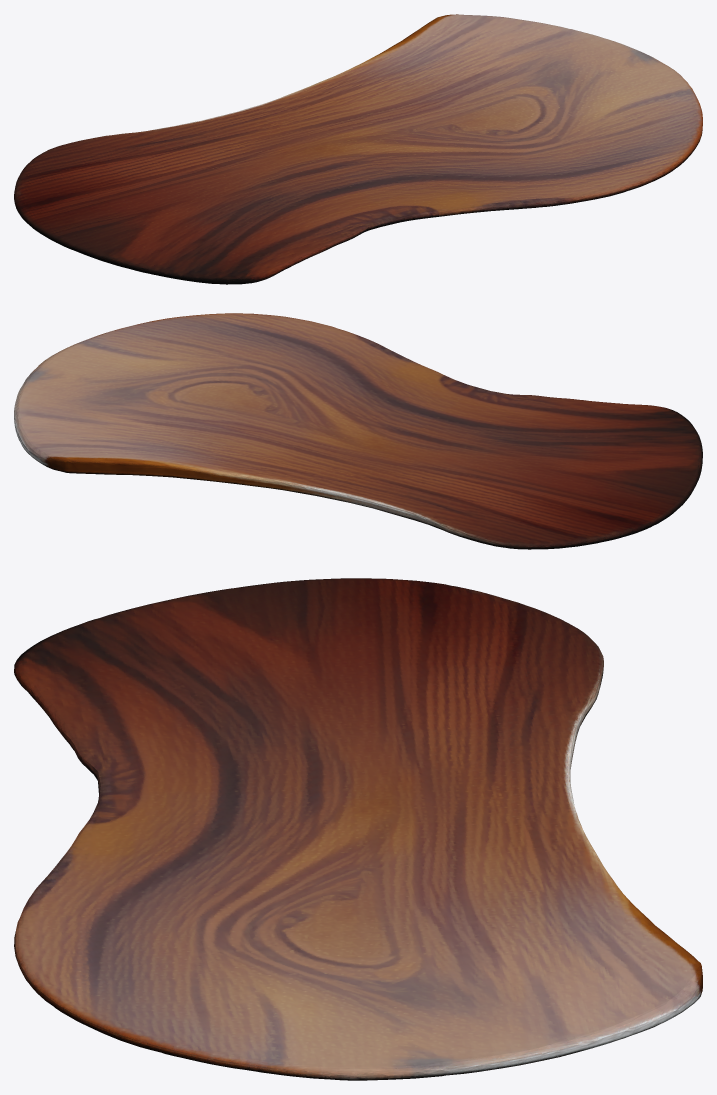
Rendered from wooden-coat-hook-futuristic.jpeg.glb.
3 renders of one model, top to bottom at view 1: azimuth 30°, elevation 25°; view 2: azimuth 150°, elevation 25°; view 3: azimuth 270°, elevation 25°, orthographic. The views are drawn at different scales.
Visible parts, largest first — view 1: world; view 2: world; view 3: world.
Boxes of the visible parts, <box> form: world: <box>14,14,702,284</box>; world: <box>14,313,702,549</box>; world: <box>14,578,702,1080</box>.
Bounding box in the file's own units: 0.9935 × 0.0205 × 0.5822.
1 material, 1 textured.
